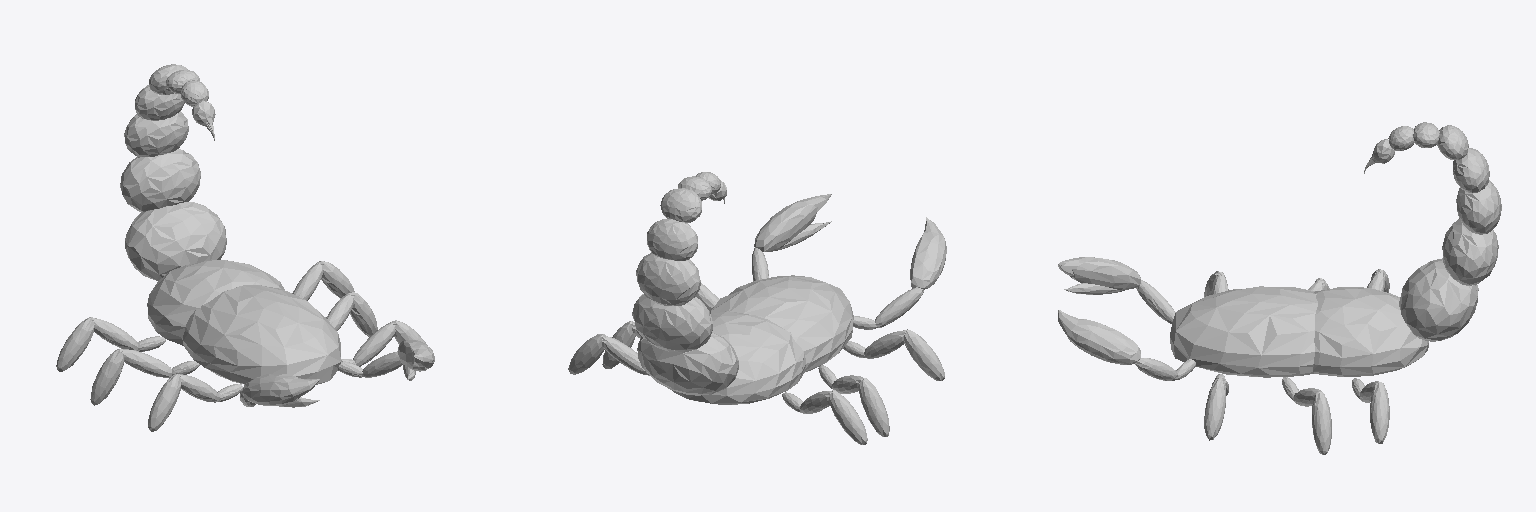
The model's file is scorpion_000030.obj.
The picture shows the model from 3 angles: view 1: azimuth 30°, elevation 25°; view 2: azimuth 150°, elevation 25°; view 3: azimuth 270°, elevation 25°; orthographic projection.
Visible parts, largest first — view 1: Sphere.010_Sphere.012, Sphere.002_Sphere.004, Sphere.011_Sphere.013, Sphere.003_Sphere.005, Sphere.030_Sphere.000, Sphere.004_Sphere.006, Sphere.012_Sphere.020, Sphere.014_Sphere.023, Sphere.013_Sphere.017, Sphere.000_Sphere.019, Sphere.016_Sphere.022, Sphere.018_Sphere.025 (+4 smaller); view 2: Sphere.010_Sphere.012, Sphere.011_Sphere.013, Sphere.002_Sphere.004, Sphere.030_Sphere.000, Sphere.003_Sphere.005, Sphere.004_Sphere.006, Sphere.014_Sphere.023, Sphere.005_Sphere.007, Sphere.012_Sphere.020, Sphere.028_Sphere.046, Sphere.018_Sphere.025, Sphere.006_Sphere.008 (+2 smaller); view 3: Sphere.010_Sphere.012, Sphere.011_Sphere.013, Sphere.002_Sphere.004, Sphere.030_Sphere.000, Sphere.003_Sphere.005, Sphere.004_Sphere.006, Sphere.028_Sphere.046, Sphere.005_Sphere.007, Sphere.000_Sphere.019, Sphere.014_Sphere.023, Sphere.012_Sphere.020, Sphere.006_Sphere.008 (+1 smaller).
Part boxes in pixels (bbox=[...]): Sphere.010_Sphere.012: bbox=[182, 285, 341, 384]; Sphere.002_Sphere.004: bbox=[125, 202, 226, 280]; Sphere.011_Sphere.013: bbox=[147, 260, 284, 345]; Sphere.003_Sphere.005: bbox=[120, 149, 200, 211]; Sphere.030_Sphere.000: bbox=[242, 340, 434, 405]; Sphere.004_Sphere.006: bbox=[124, 111, 188, 157]; Sphere.012_Sphere.020: bbox=[90, 292, 377, 405]; Sphere.014_Sphere.023: bbox=[56, 261, 354, 371]; Sphere.013_Sphere.017: bbox=[180, 321, 395, 402]; Sphere.000_Sphere.019: bbox=[148, 320, 427, 431]; Sphere.016_Sphere.022: bbox=[122, 293, 353, 377]; Sphere.018_Sphere.025: bbox=[93, 262, 322, 350]; Sphere.010_Sphere.012: bbox=[710, 275, 853, 371]; Sphere.011_Sphere.013: bbox=[672, 311, 805, 404]; Sphere.002_Sphere.004: bbox=[637, 330, 738, 395]; Sphere.030_Sphere.000: bbox=[754, 194, 946, 289]; Sphere.003_Sphere.005: bbox=[632, 294, 712, 352]; Sphere.004_Sphere.006: bbox=[636, 252, 700, 305]; Sphere.014_Sphere.023: bbox=[568, 334, 867, 444]; Sphere.005_Sphere.007: bbox=[647, 219, 697, 260]; Sphere.012_Sphere.020: bbox=[602, 321, 889, 436]; Sphere.028_Sphere.046: bbox=[752, 248, 923, 327]; Sphere.018_Sphere.025: bbox=[602, 336, 831, 413]; Sphere.006_Sphere.008: bbox=[660, 188, 701, 222]; Sphere.010_Sphere.012: bbox=[1170, 286, 1317, 377]; Sphere.011_Sphere.013: bbox=[1313, 287, 1428, 376]; Sphere.002_Sphere.004: bbox=[1399, 258, 1478, 341]; Sphere.030_Sphere.000: bbox=[1058, 257, 1140, 364]; Sphere.003_Sphere.005: bbox=[1442, 218, 1498, 285]; Sphere.004_Sphere.006: bbox=[1456, 180, 1501, 234]; Sphere.028_Sphere.046: bbox=[1135, 280, 1178, 380]; Sphere.005_Sphere.007: bbox=[1453, 148, 1489, 192]; Sphere.000_Sphere.019: bbox=[1204, 271, 1225, 440]; Sphere.014_Sphere.023: bbox=[1370, 269, 1389, 443]; Sphere.012_Sphere.020: bbox=[1312, 278, 1331, 454]; Sphere.006_Sphere.008: bbox=[1437, 125, 1468, 160].
Size of the model in its own units: 0.9502 by 0.7998 by 1.23.